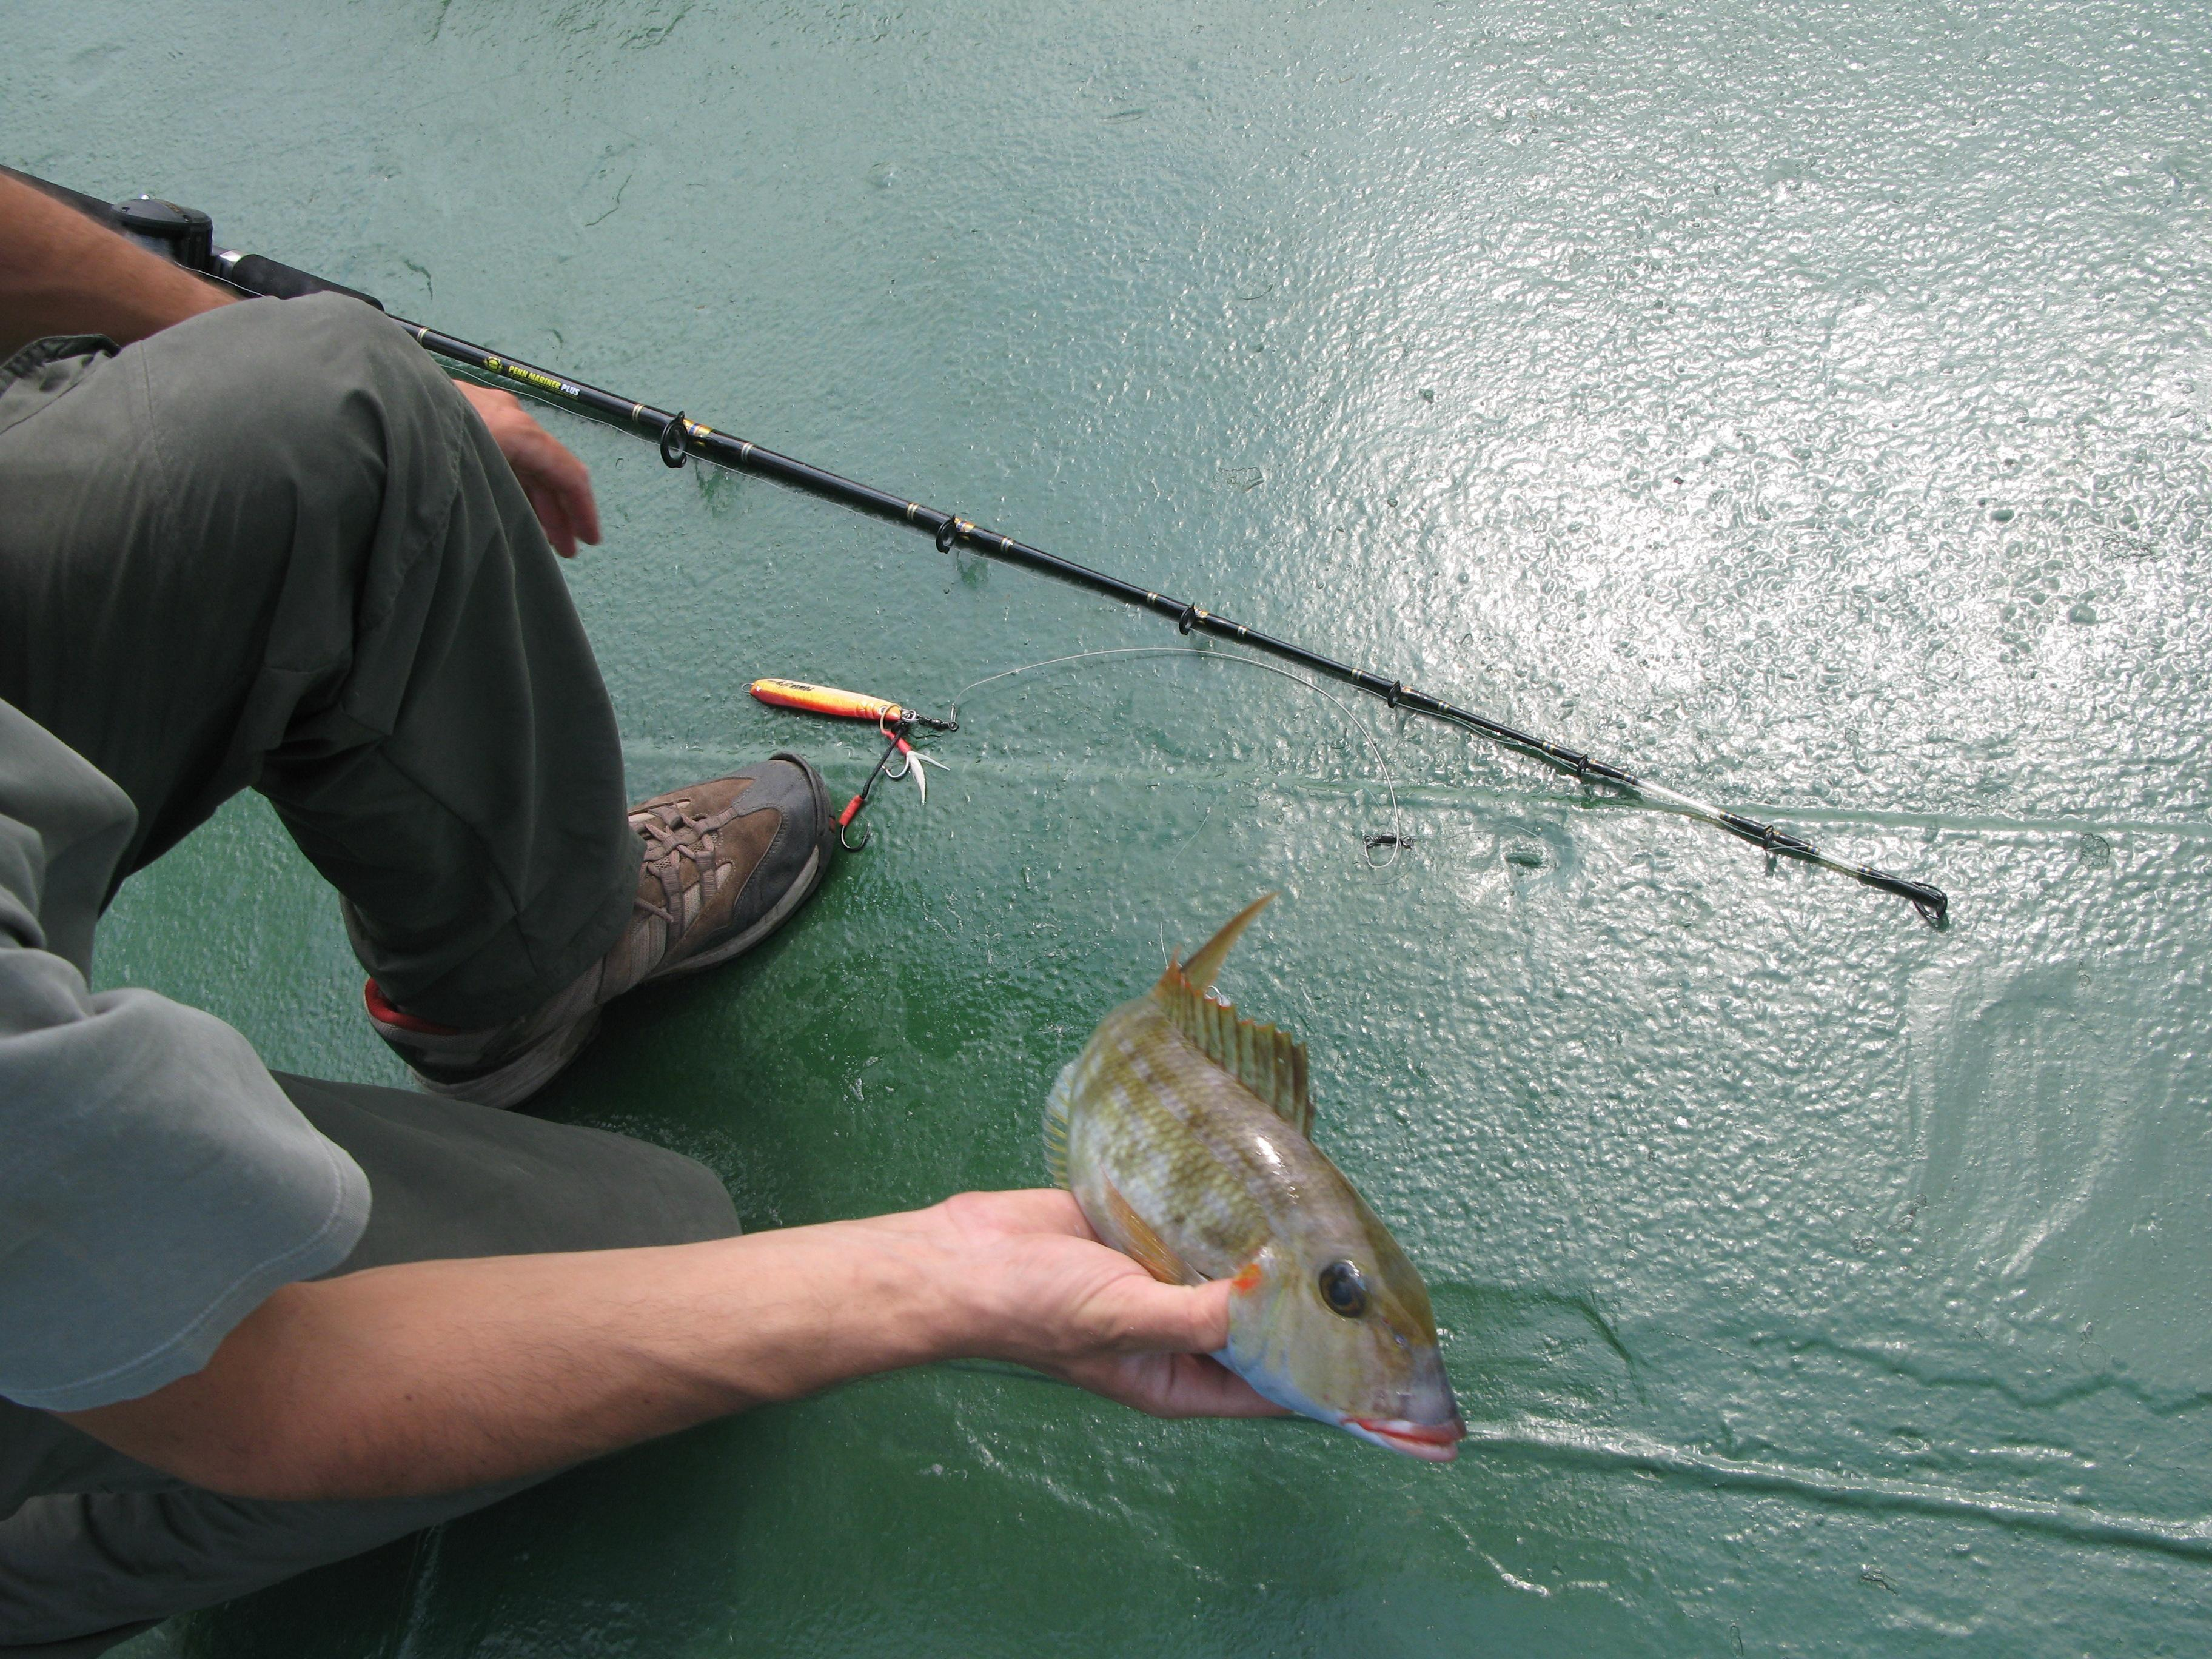Fish: (897, 876, 1677, 1488)
